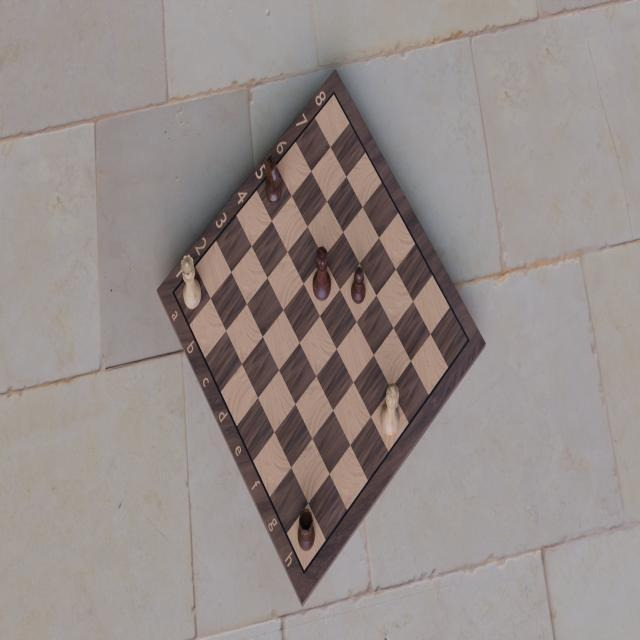black-king: (312, 245, 332, 303)
black-knight: (263, 154, 285, 206)
black-pawn: (349, 264, 367, 305)
black-rook: (296, 503, 316, 555)
white-king: (378, 382, 402, 442)
white-rook: (179, 253, 202, 311)
